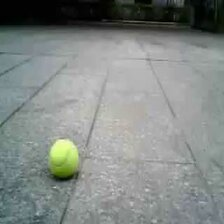tennis: (48, 139, 77, 175)
